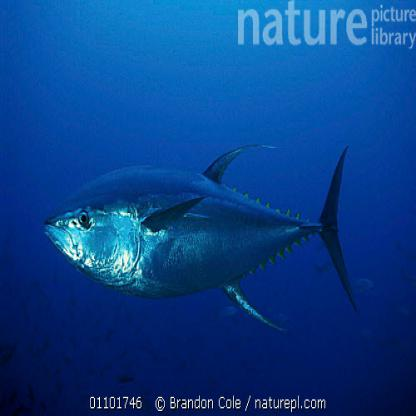Scombridae -Tunas-: (38, 130, 366, 339)
